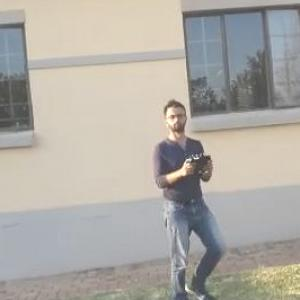follow: (148, 96, 230, 299)
